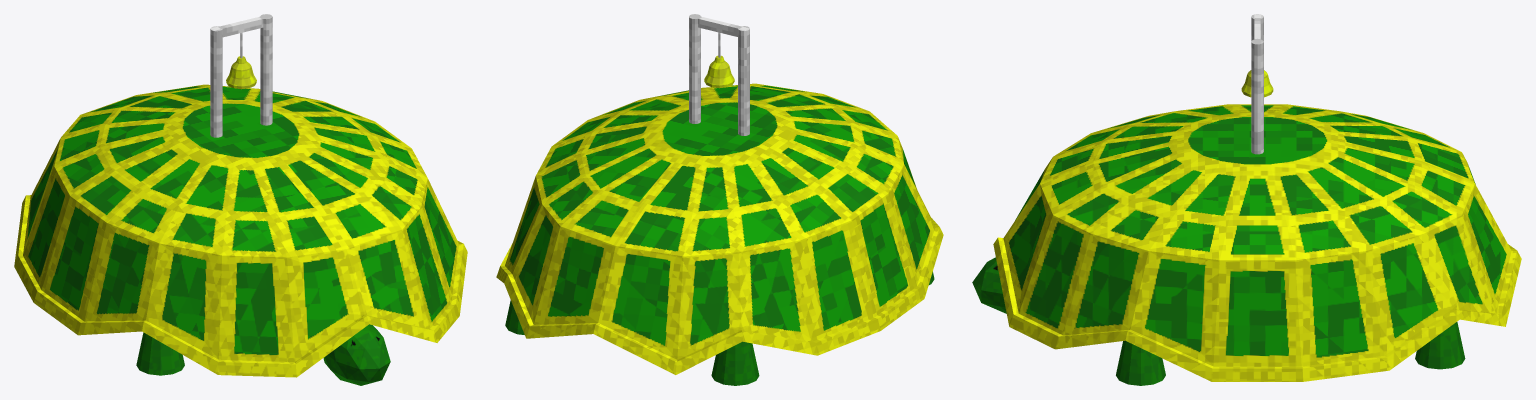
File: turtle.fbx
3 renders of one model, left to right at view 1: azimuth 30°, elevation 25°; view 2: azimuth 150°, elevation 25°; view 3: azimuth 270°, elevation 25°, orthographic. The views are drawn at different scales.
Visible parts, largest first — view 1: body, bellholder, head, leg.001, bell; view 2: body, bellholder, leg.004, bell; view 3: body, bellholder, leg.002, leg.003, head.
Boxes of the visible parts, bbox=[...] form: body: bbox=[14, 84, 467, 377]; bellholder: bbox=[210, 14, 272, 137]; head: bbox=[323, 324, 390, 385]; leg.001: bbox=[136, 332, 184, 375]; bell: bbox=[226, 56, 256, 89]; body: bbox=[496, 83, 943, 374]; bellholder: bbox=[689, 14, 749, 135]; leg.004: bbox=[711, 341, 759, 385]; bell: bbox=[704, 55, 734, 88]; body: bbox=[993, 104, 1521, 381]; bellholder: bbox=[1251, 14, 1263, 154]; leg.002: bbox=[1116, 340, 1165, 385]; leg.003: bbox=[1415, 322, 1465, 369]; head: bbox=[972, 257, 1006, 313].
Size of the model in its own units: 171 by 122 by 212.
6 materials, 6 textured.
